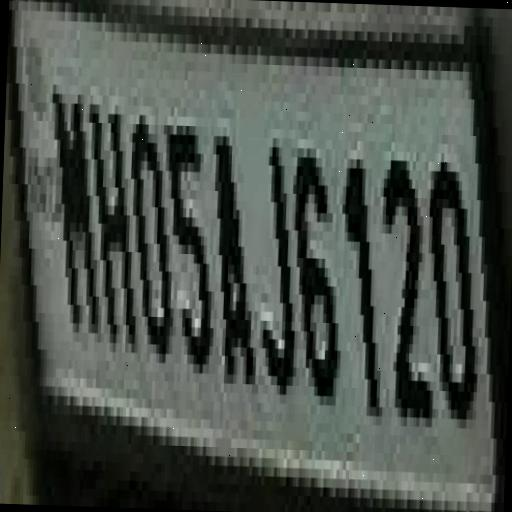number plate: (0, 28, 491, 483)
